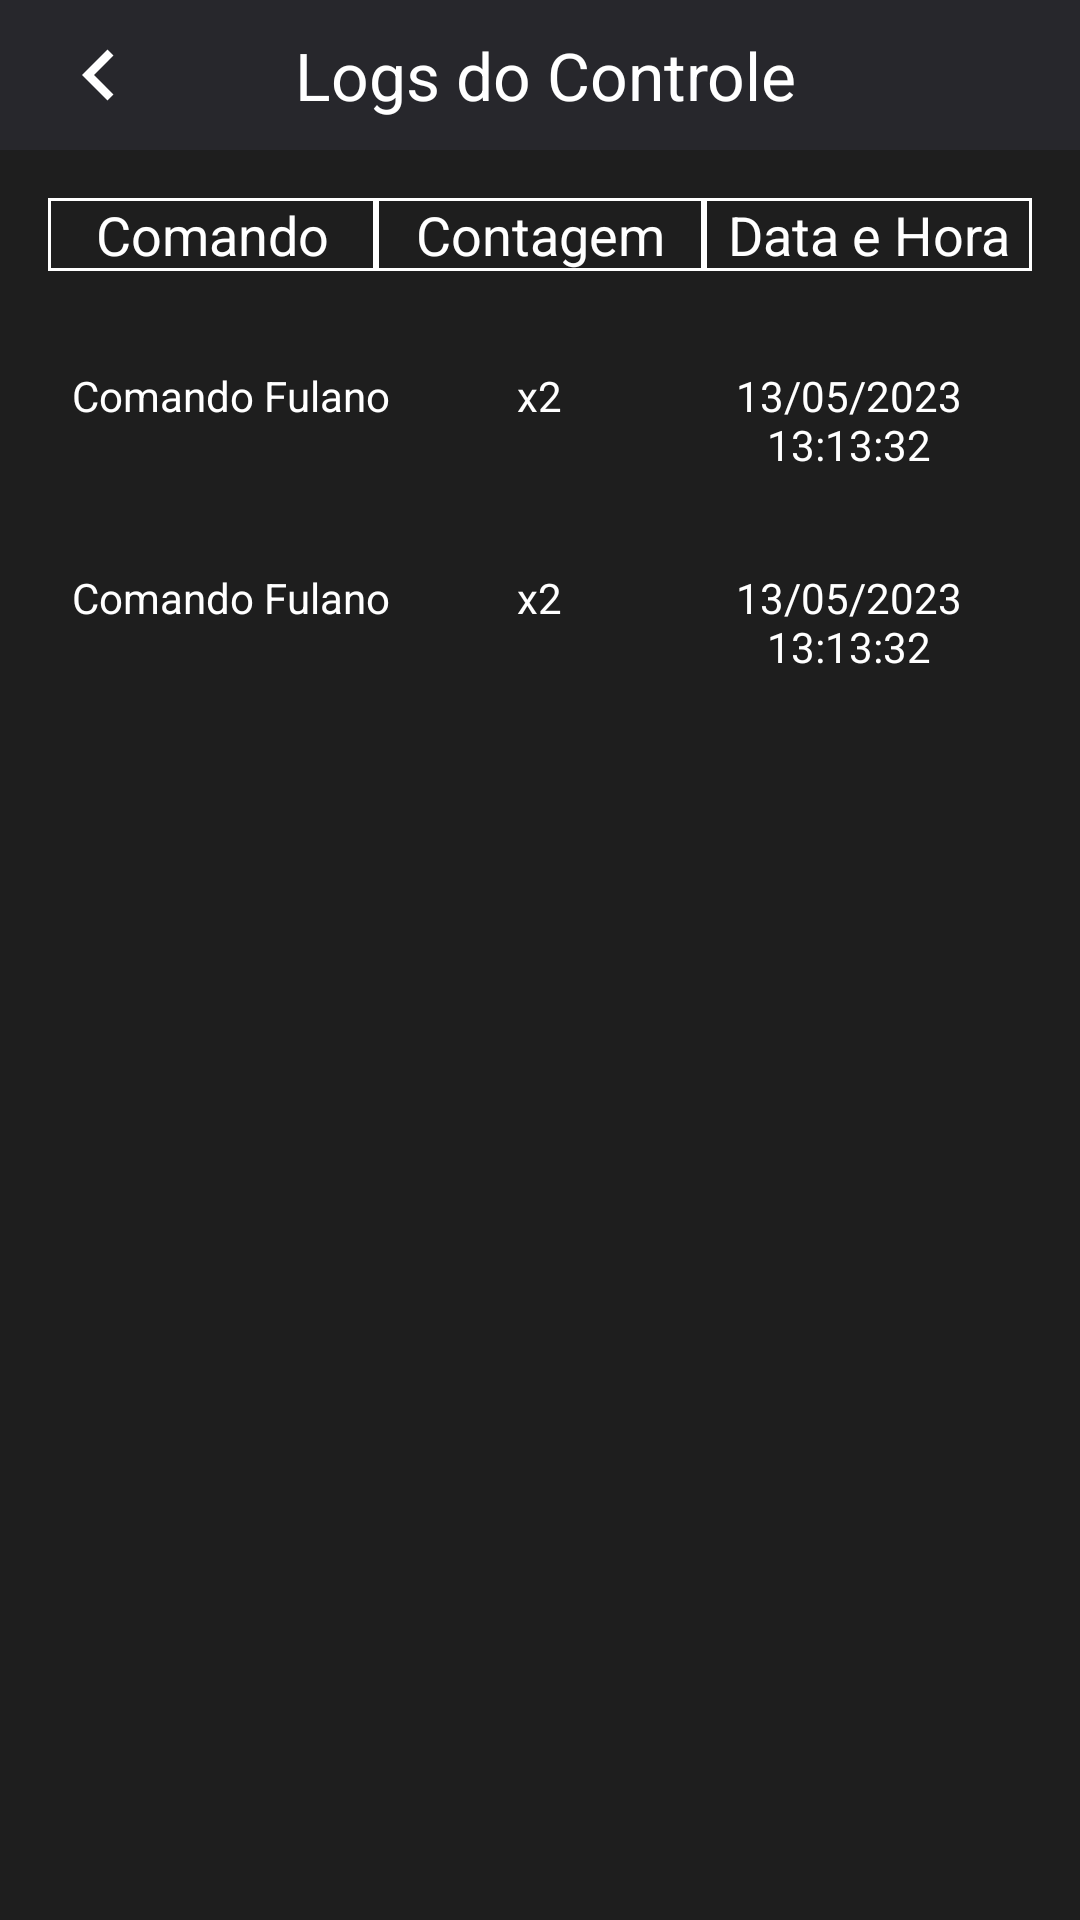

Named icons in this screenshot (1080×1920) and their bounding boxes, (x1, y1, x2, y2):
Seta: (82, 49, 114, 101)
